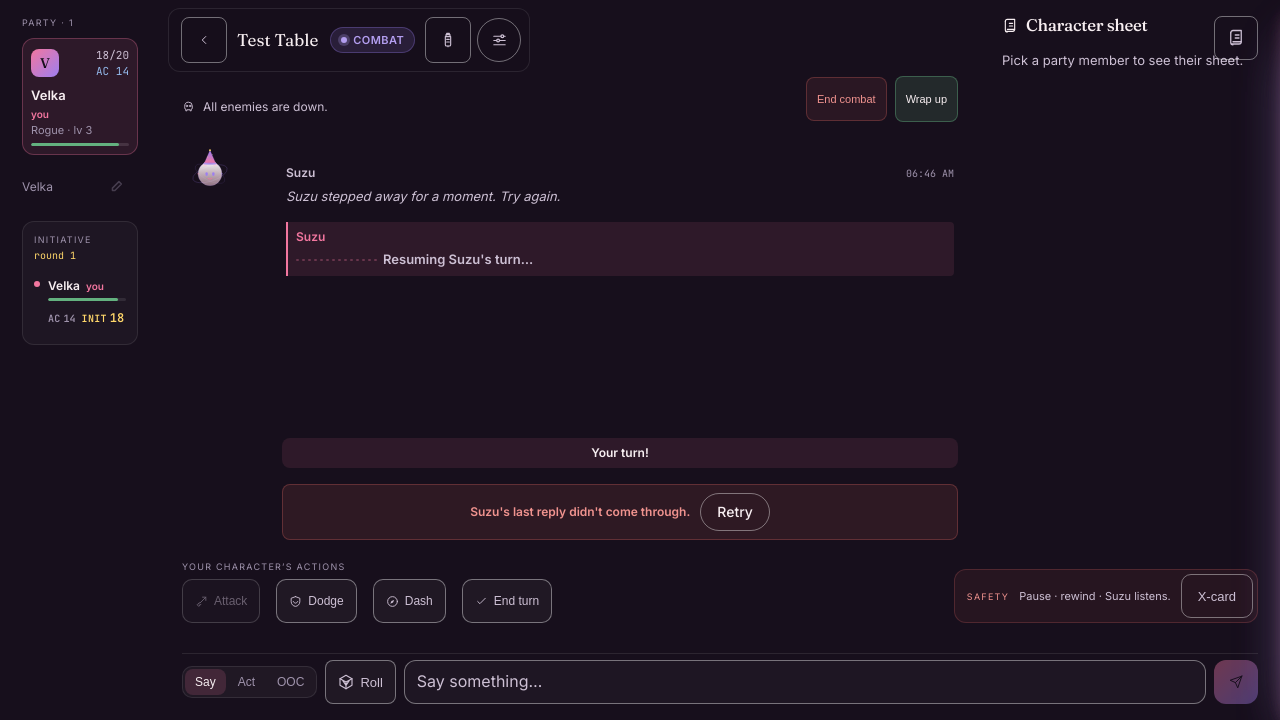
Test: re-QA (2): reload-resume-discovery's documented "worst case = no-op Retry" claim (page.tsx §4b comment) holds empirically › a fresh mount discovers a genuinely beat-originated in-flight job via pending_generation (origin defaults to "composer" — unknowable post-reload); when its SSE
Expected: the text "Test Table" is shown, x1=237 y1=27 x2=318 y2=53
Expected: the text "Suzu stepped away for a moment. Try again." is shown, x1=286 y1=188 x2=560 y2=204
Click the button "Retry" at (735, 512), box x1=700 y1=492 x2=770 y2=530
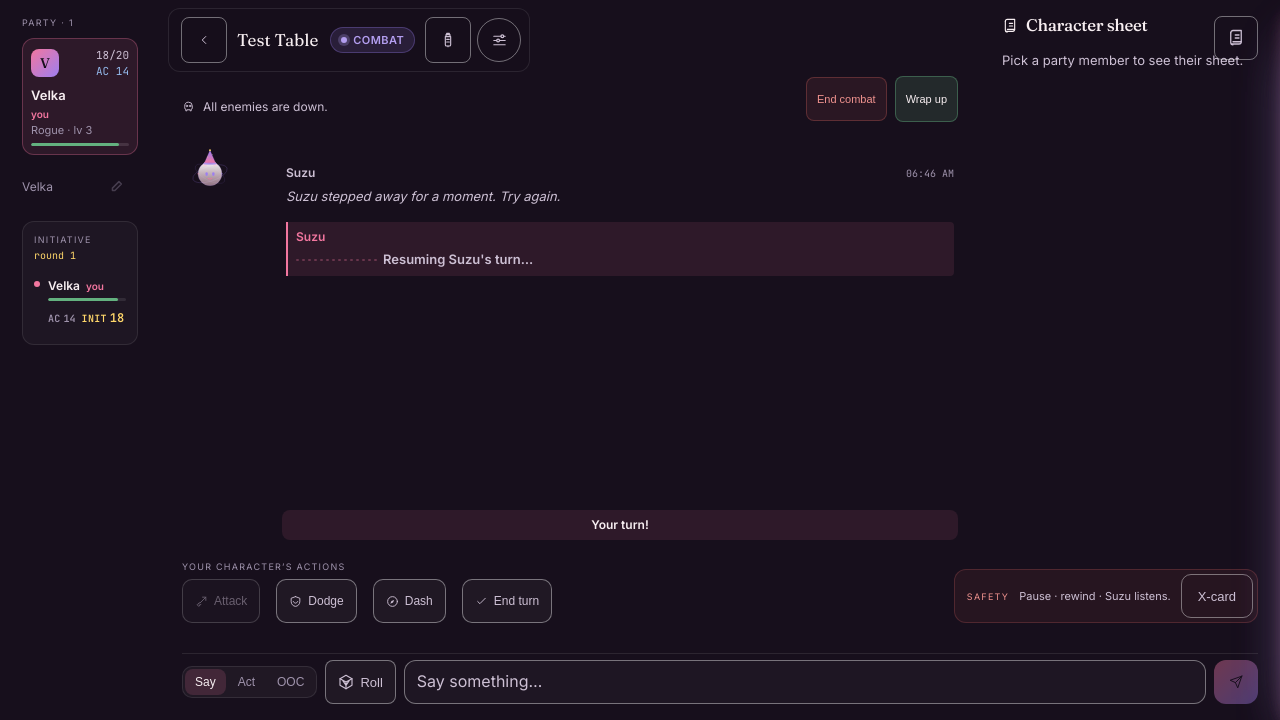
Now the button "Retry" is gone
